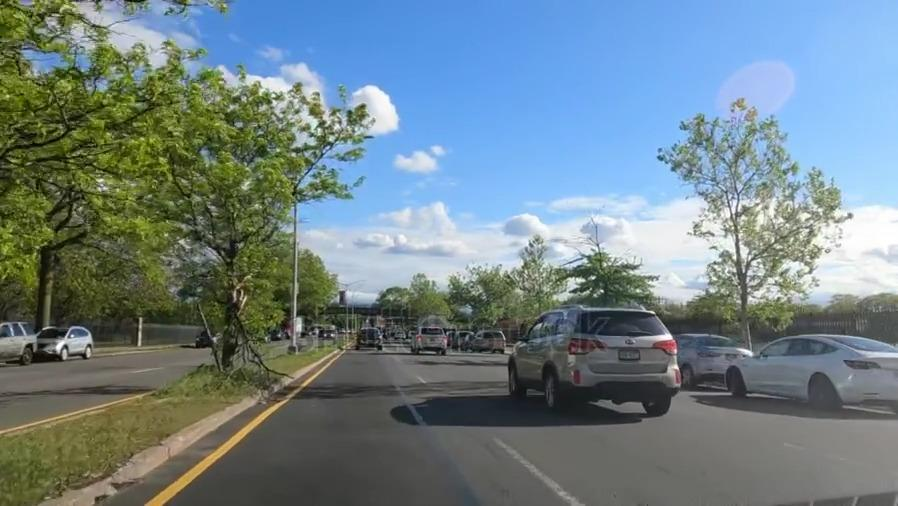car: (513, 314, 671, 396), (753, 336, 893, 411), (671, 327, 738, 385), (41, 327, 94, 362), (1, 319, 36, 364), (413, 327, 446, 357), (475, 329, 503, 351), (355, 327, 382, 349)
